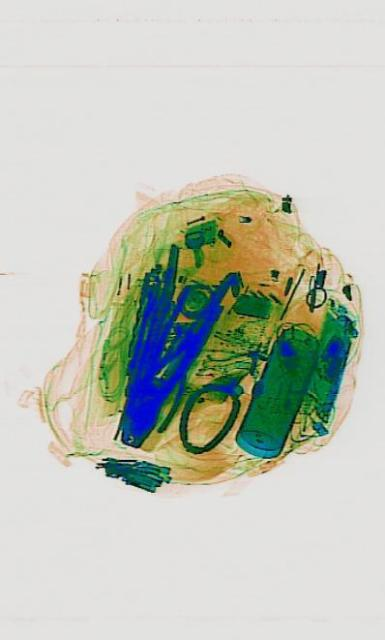Pliers: (99, 218, 236, 472), (131, 304, 206, 436)
